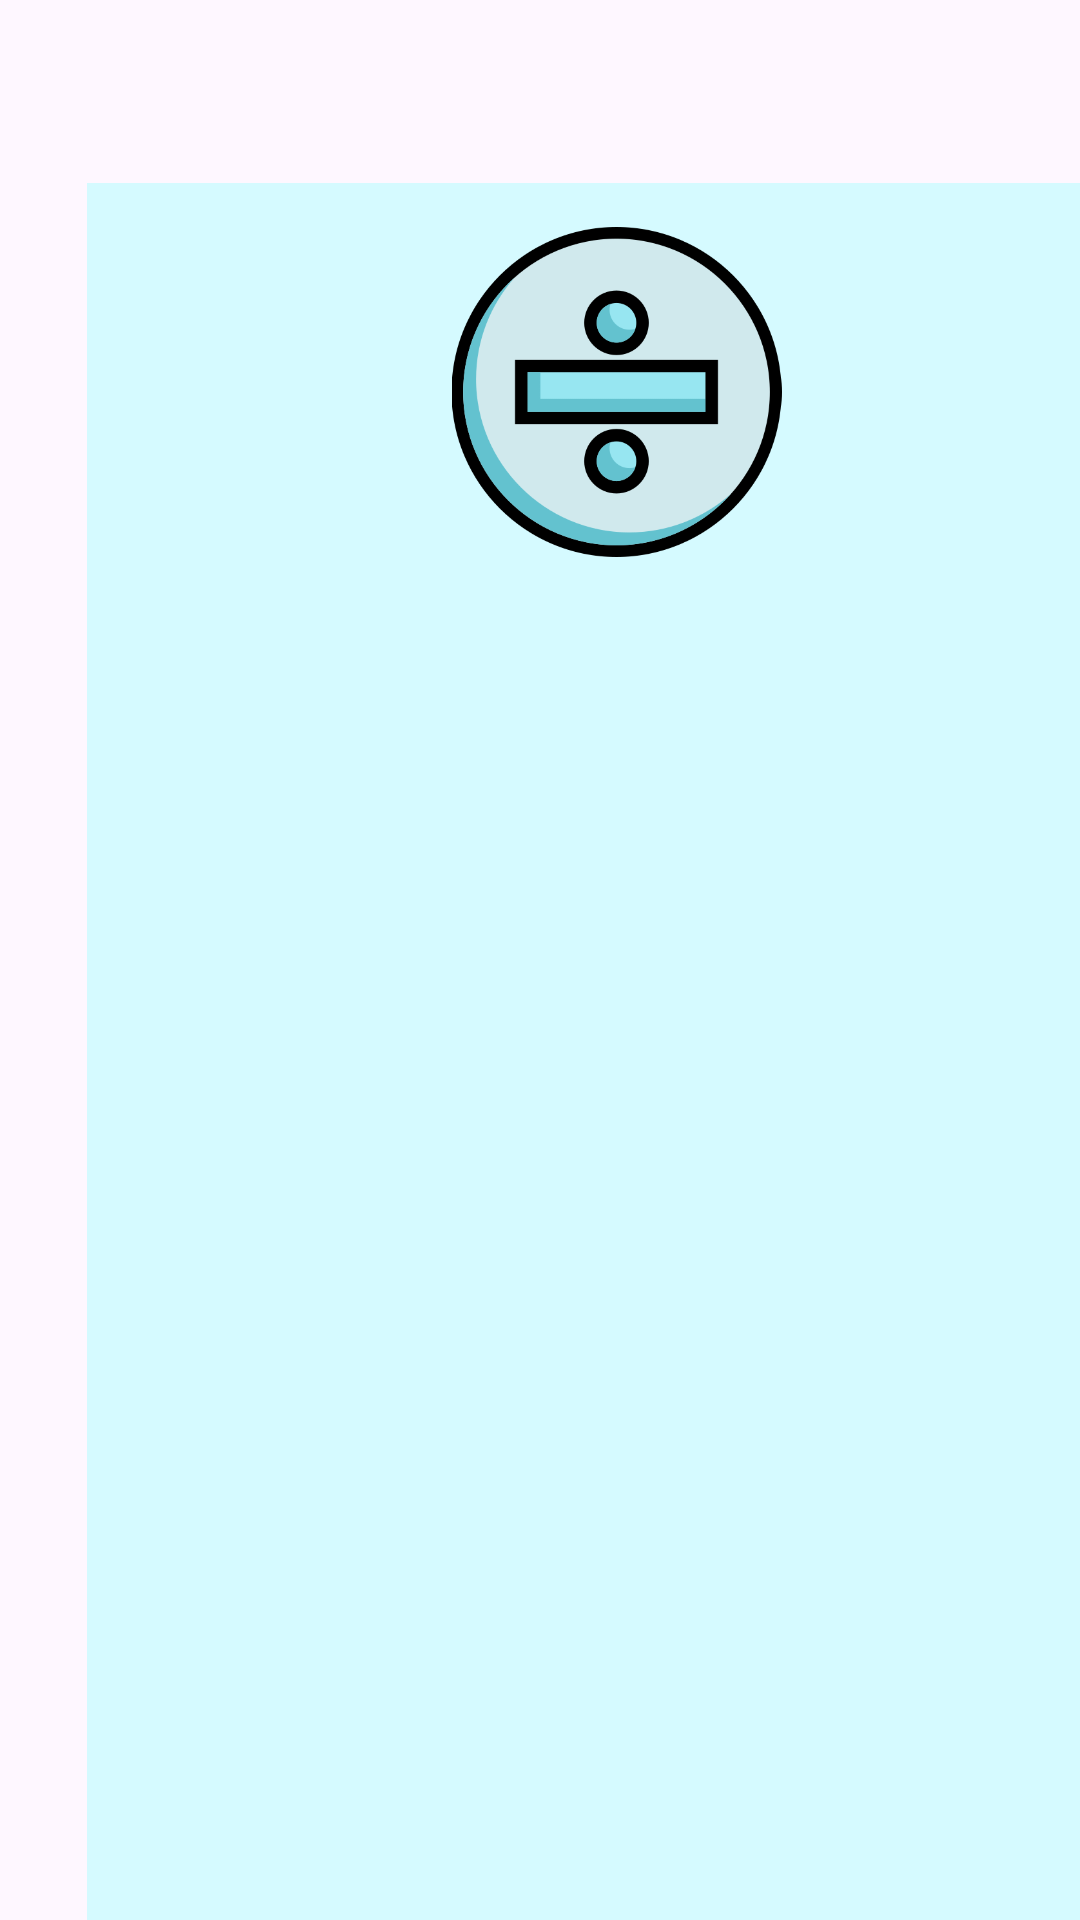

Locate icon controls on the screen. Image size 1080 × 1920, boxes as (x1, y1, x2, y2).
Divisão: (452, 227, 782, 557)
